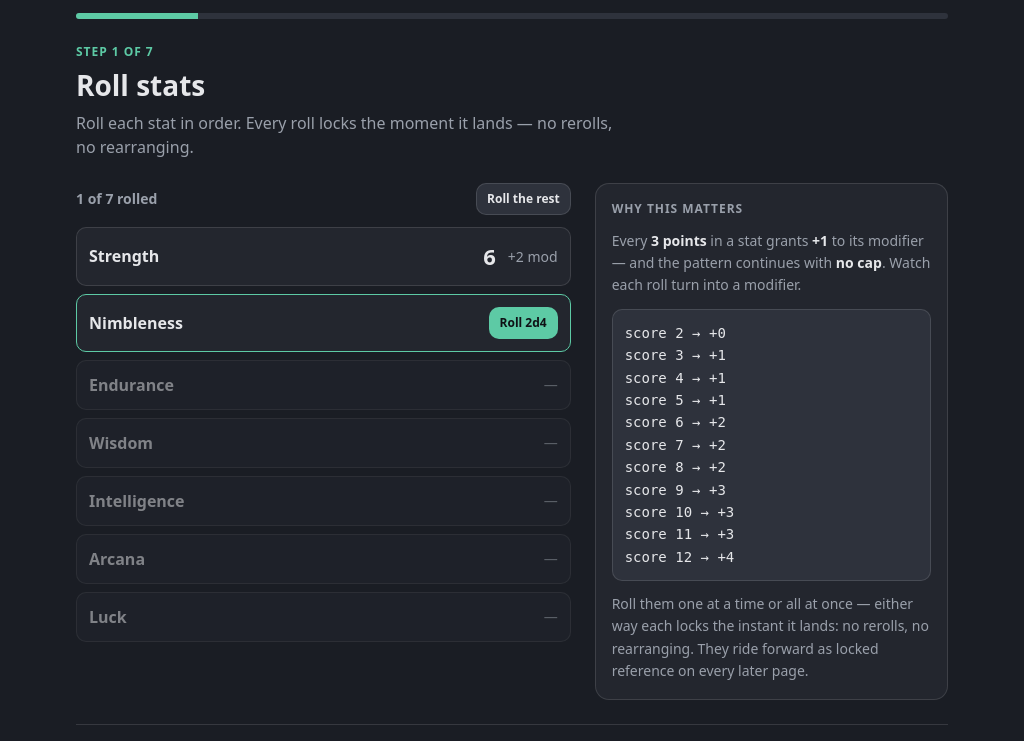
it: CharacterBuilder (integration smoke) › starts on the roll step with Next gated, and enables it after all stats are rolled
Earlier steps of the test are not shown.
Click the button "Roll 2d4".
click(523, 323)  # box [488,307,558,339]
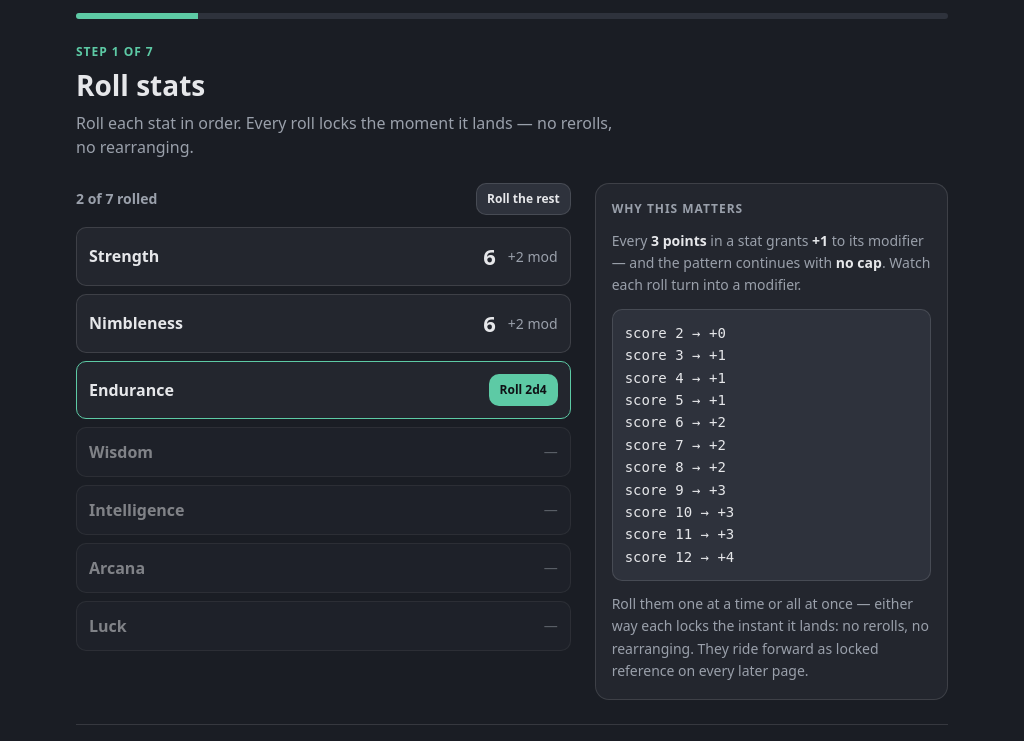
Click the button "Roll 2d4".
click(523, 390)  # box [488,374,558,406]
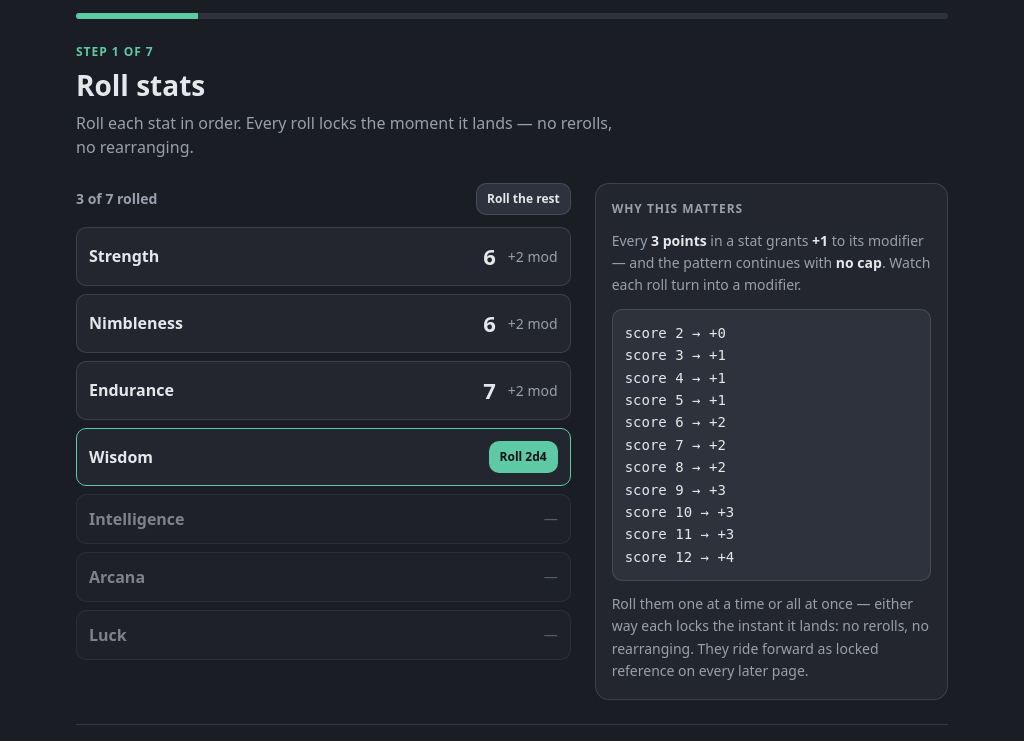
Click the button "Roll 2d4".
click(523, 457)  # box [488,441,558,473]
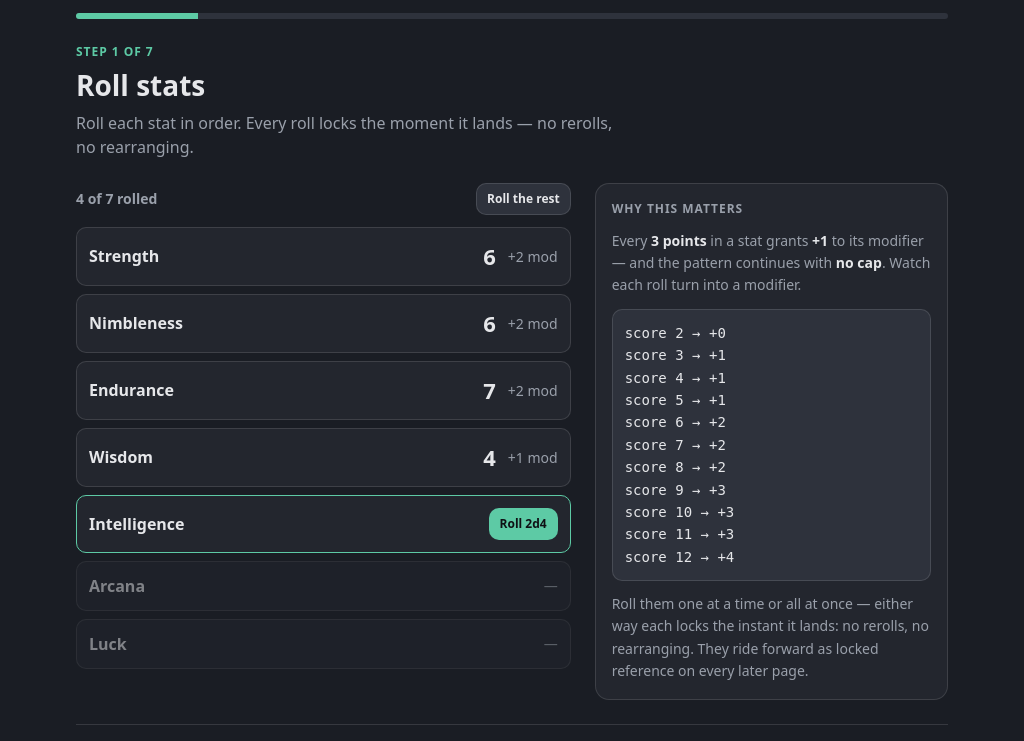
Click the button "Roll 2d4".
click(523, 524)  # box [488,508,558,540]
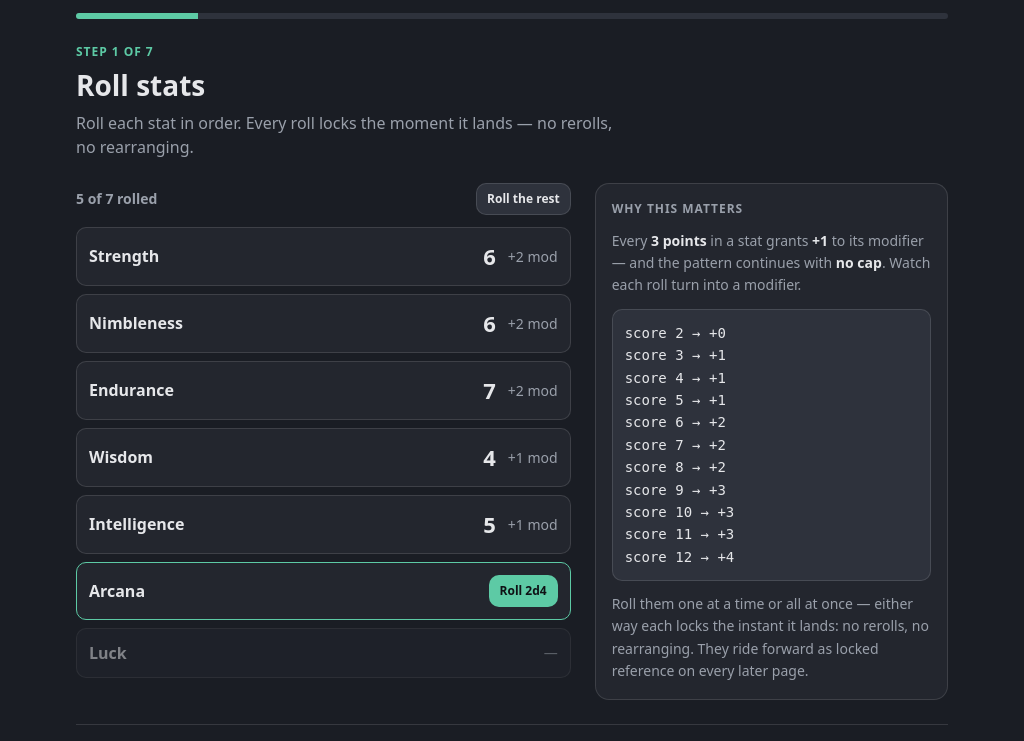
Click the button "Roll 2d4".
click(523, 591)  # box [488,575,558,607]
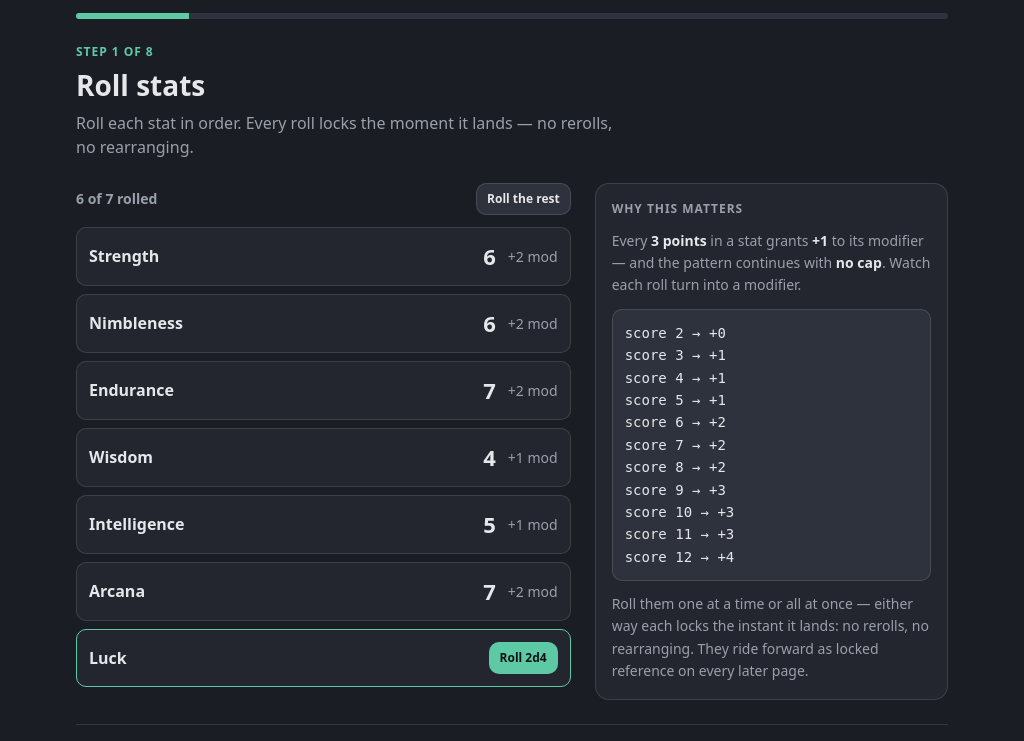
Click the button "Roll 2d4".
click(523, 658)  # box [488,642,558,674]
(page scrolled)
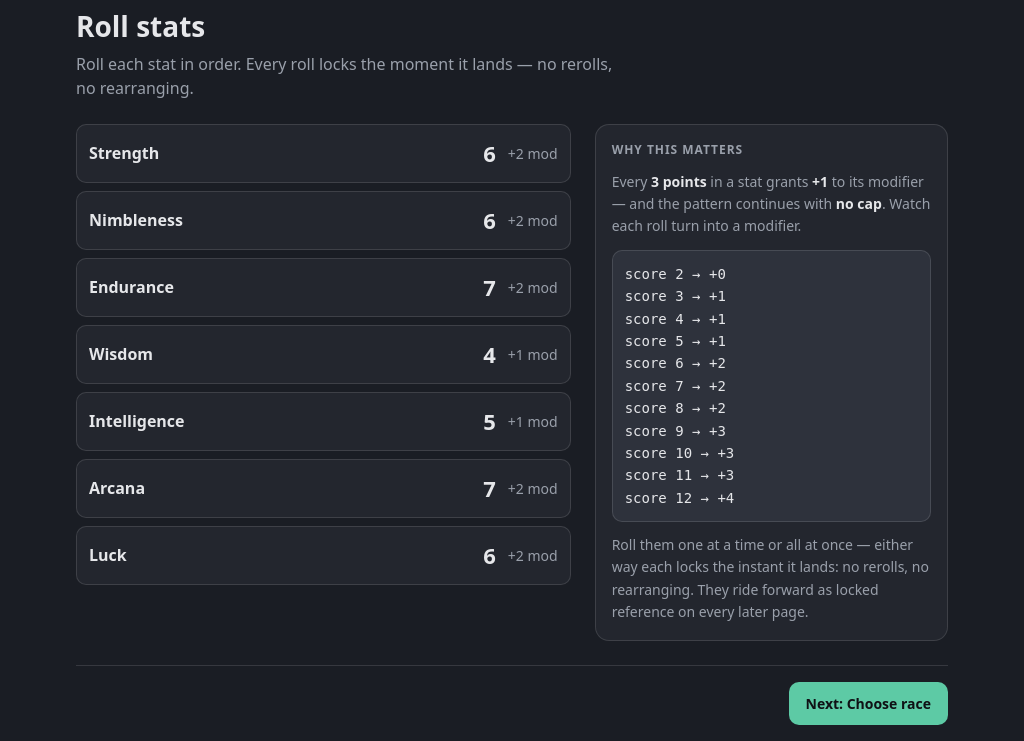
Now the button "Next: Choose race" is enabled, box [788,682,948,725]
